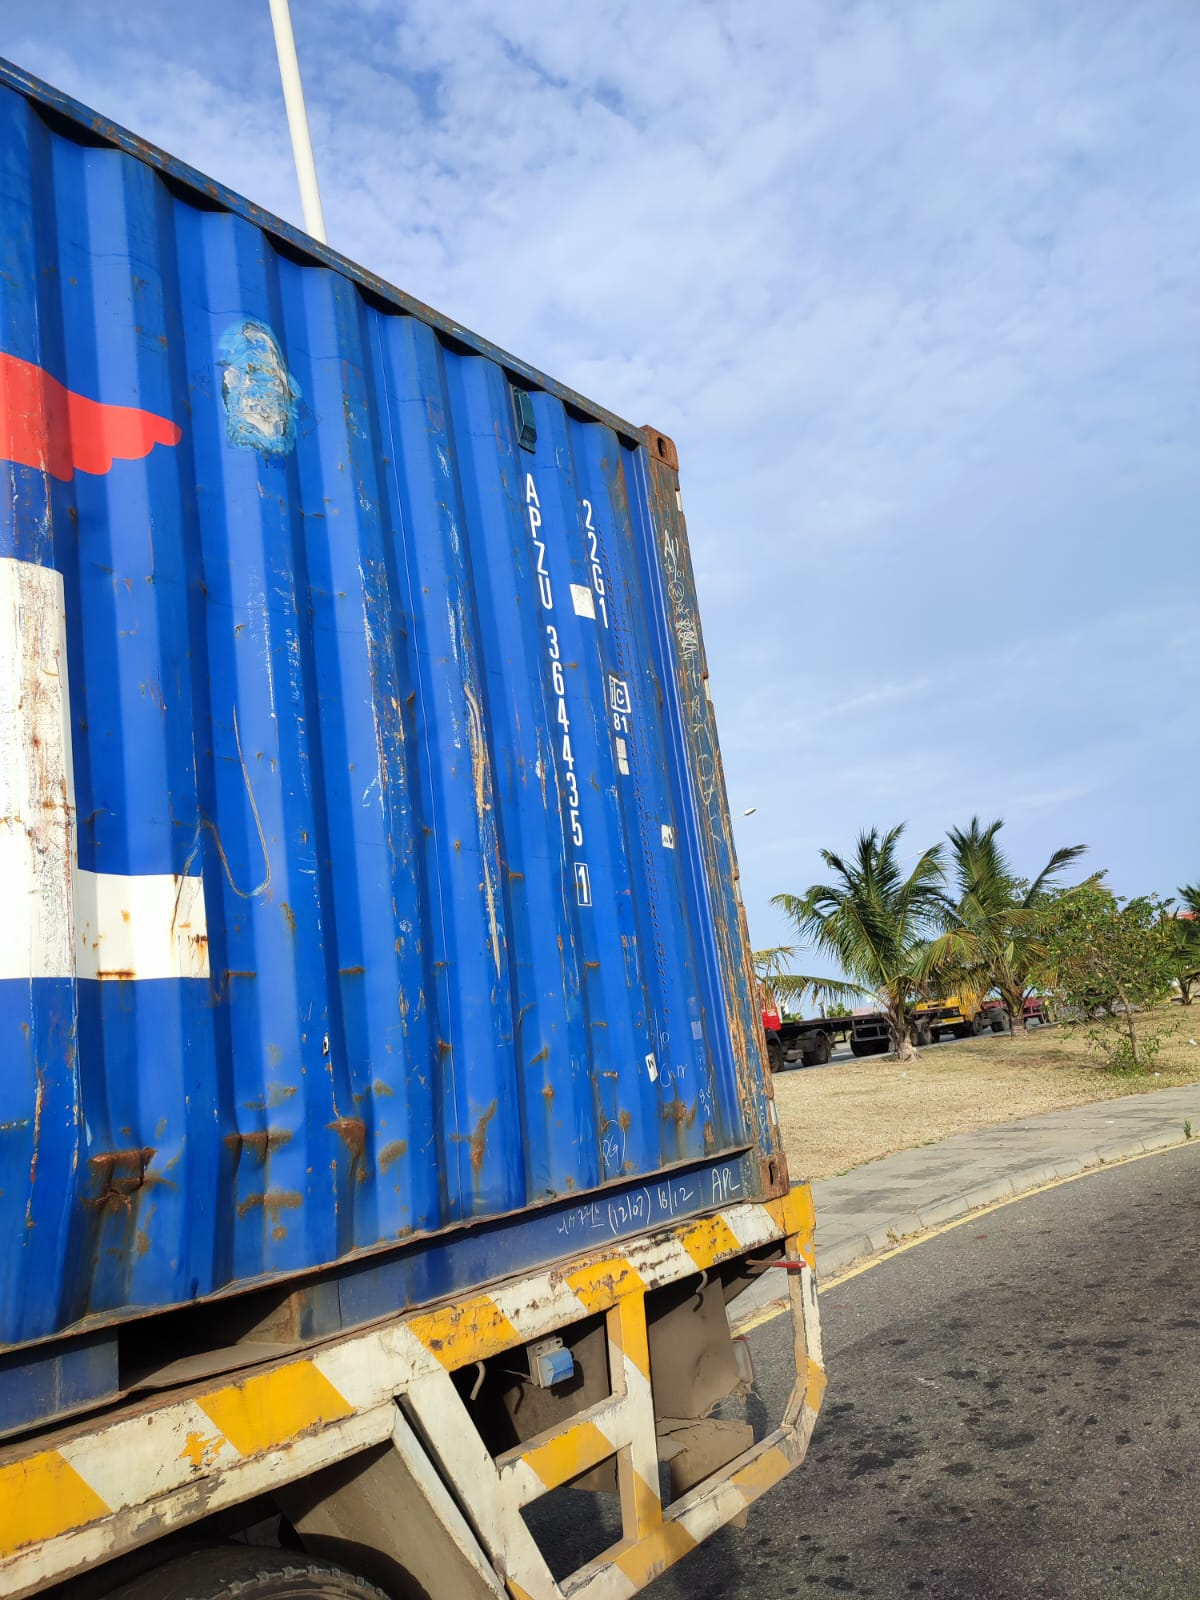dented: (228, 1099, 529, 1198), (74, 1123, 200, 1233)
